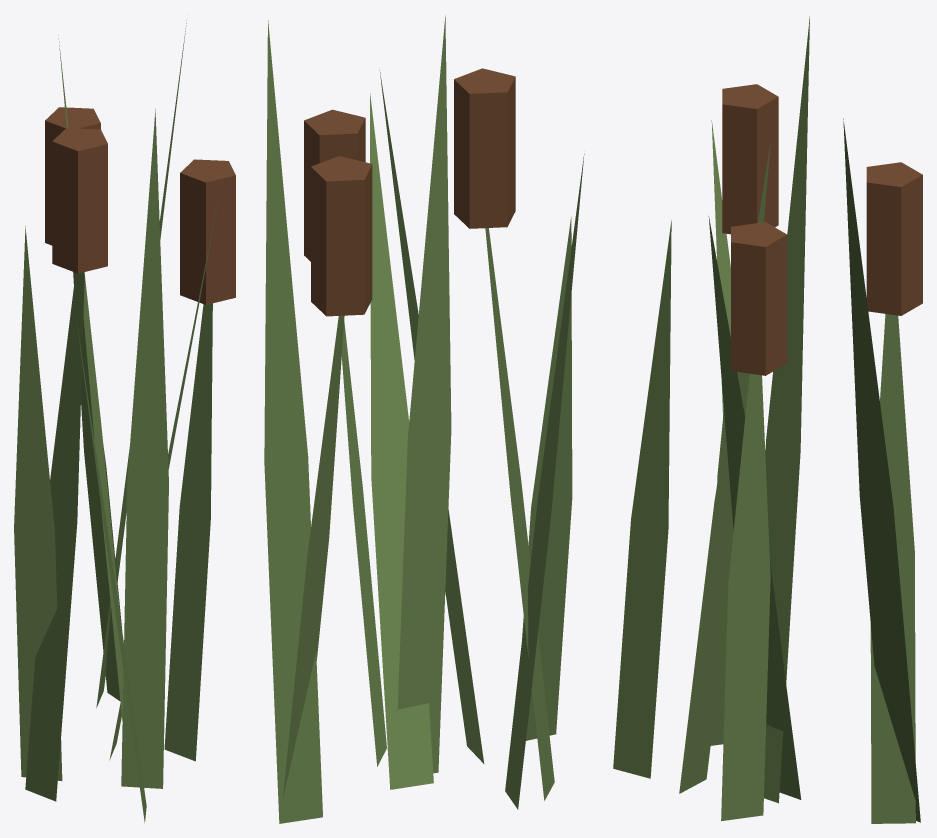
File: reeds.glb
3 views of the same model, side by side, from view 1: azimuth 30°, elevation 25°; view 2: azimuth 150°, elevation 25°; view 3: azimuth 270°, elevation 25° (orthographic). The views are drawn at different scales.
Visible parts, largest first — view 1: body_nh, body_nl; view 2: body_nh, body_nl; view 3: body_nh, body_nl.
Boxes of the visible parts, <box> form: body_nh: <box>14,20,221,822</box>; body_nl: <box>45,107,235,304</box>; body_nh: <box>264,15,584,823</box>; body_nl: <box>304,68,515,316</box>; body_nh: <box>613,16,920,823</box>; body_nl: <box>722,84,922,375</box>.
Size of the model in its own units: 0.3132 by 0.9415 by 0.3485.
